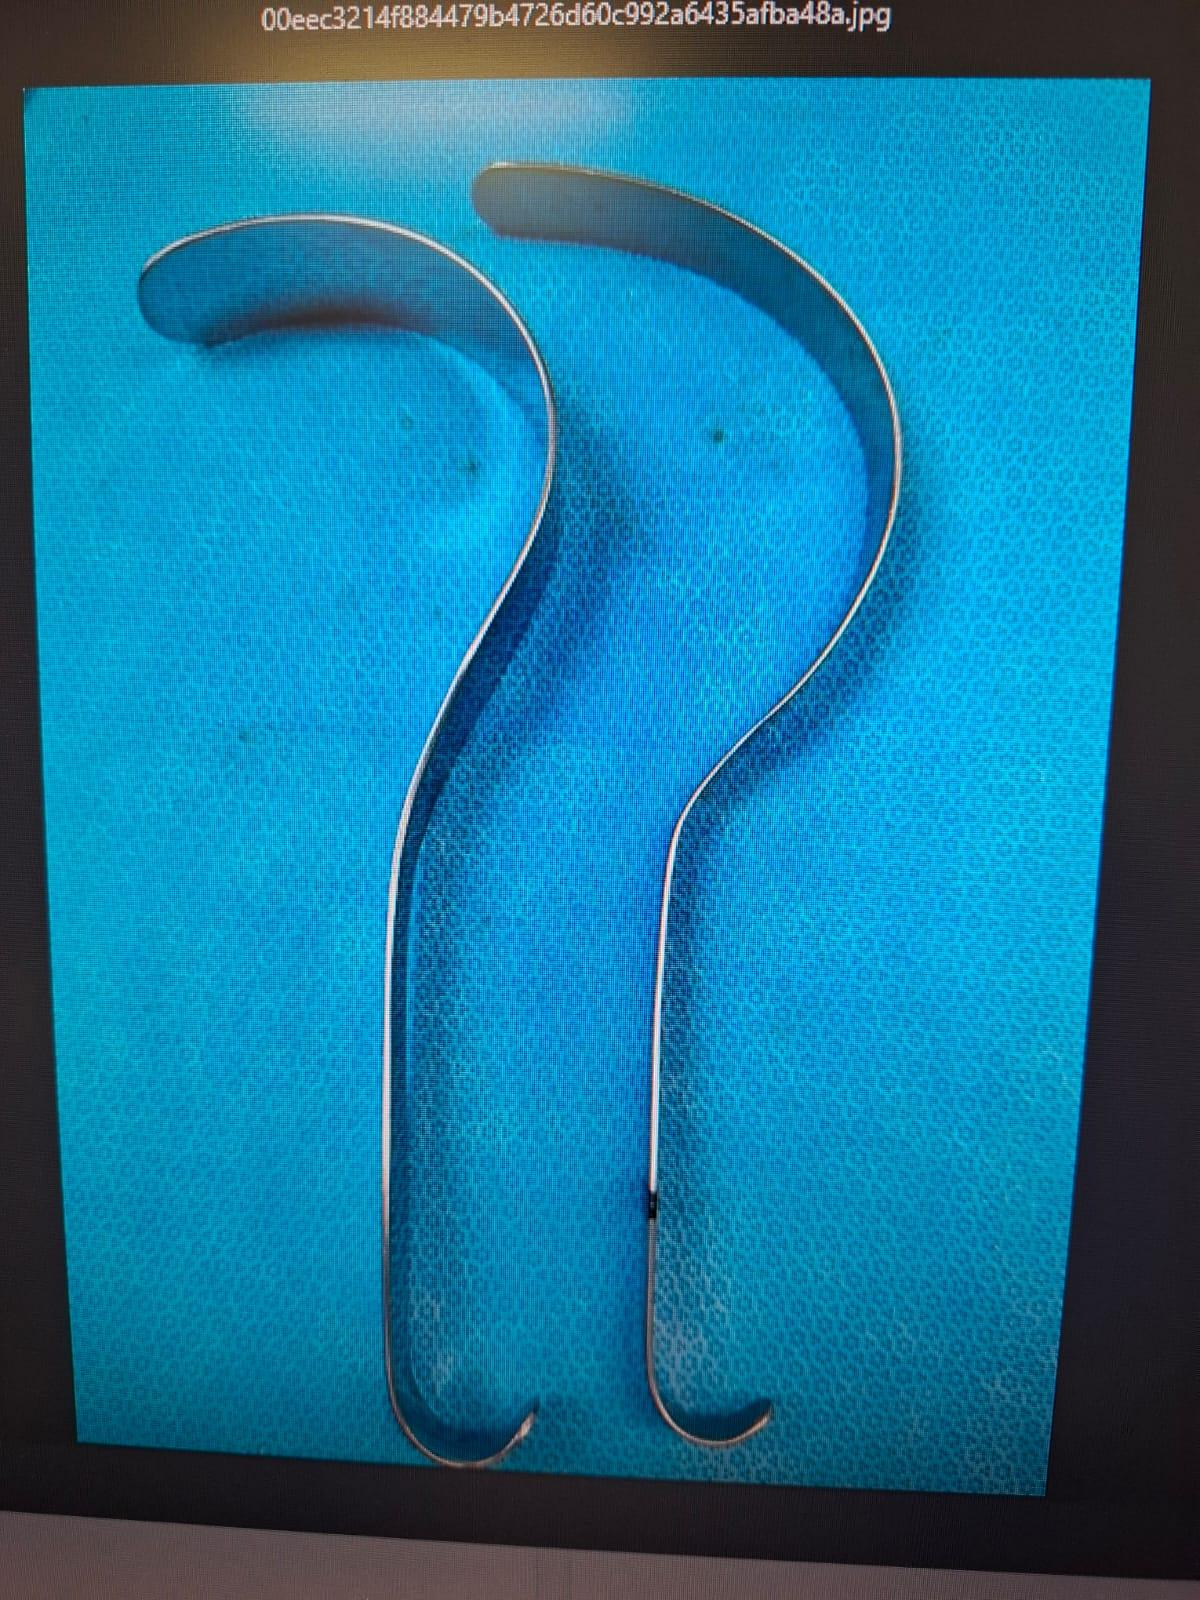Deaver Retractor: (468, 140, 920, 1452), (120, 205, 570, 1470)
